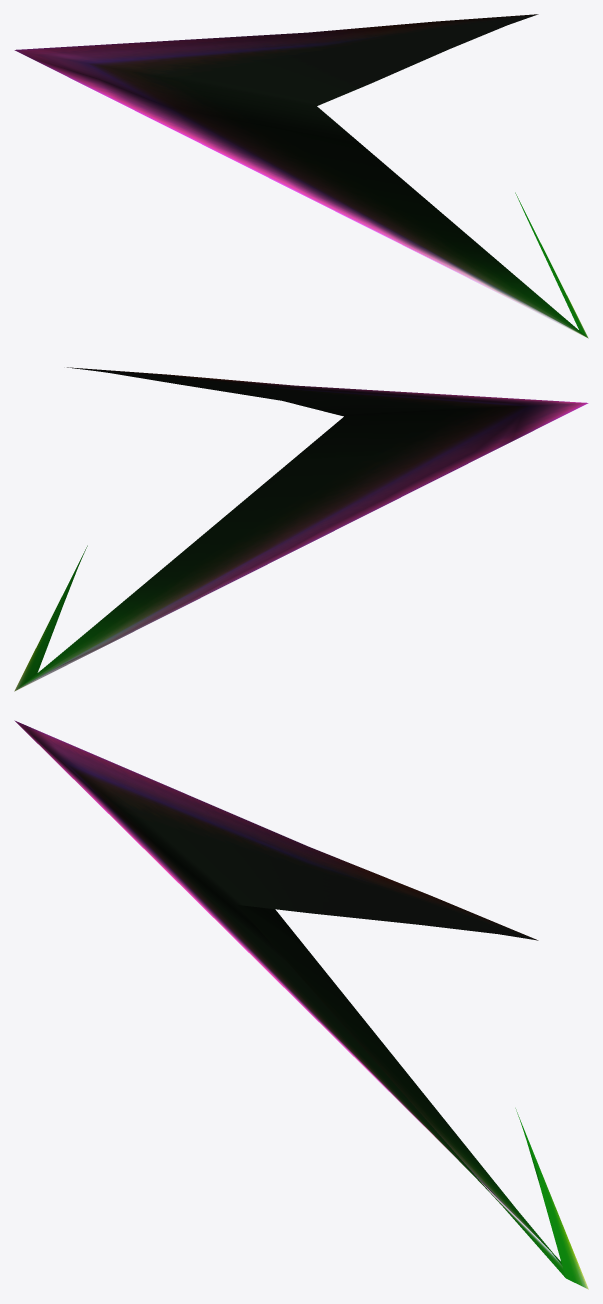
Rendered from Trail7_5.fbx.
The picture shows the model from 3 angles, top to bottom: view 1: azimuth 30°, elevation 25°; view 2: azimuth 150°, elevation 25°; view 3: azimuth 330°, elevation 25°; orthographic projection.
Visible parts, largest first — view 1: Eff_Model_Shougun_07_5; view 2: Eff_Model_Shougun_07_5; view 3: Eff_Model_Shougun_07_5.
Boxes of the visible parts, x1,y1,x2,y2 form: Eff_Model_Shougun_07_5: (14, 14, 588, 338); Eff_Model_Shougun_07_5: (14, 367, 588, 691); Eff_Model_Shougun_07_5: (14, 720, 588, 1289).
Bounding box in the file's own units: 566 × 404 × 68.18.
